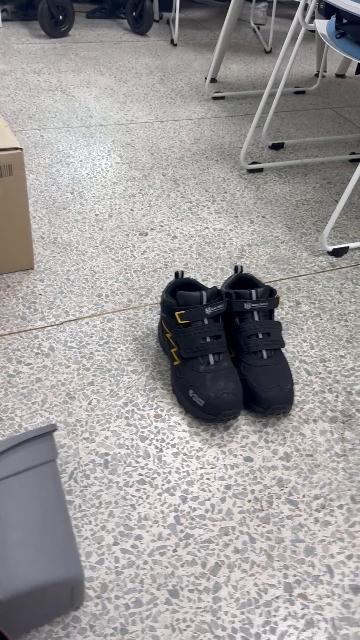shoe_worn: (157, 268, 242, 425), (221, 264, 297, 418)
